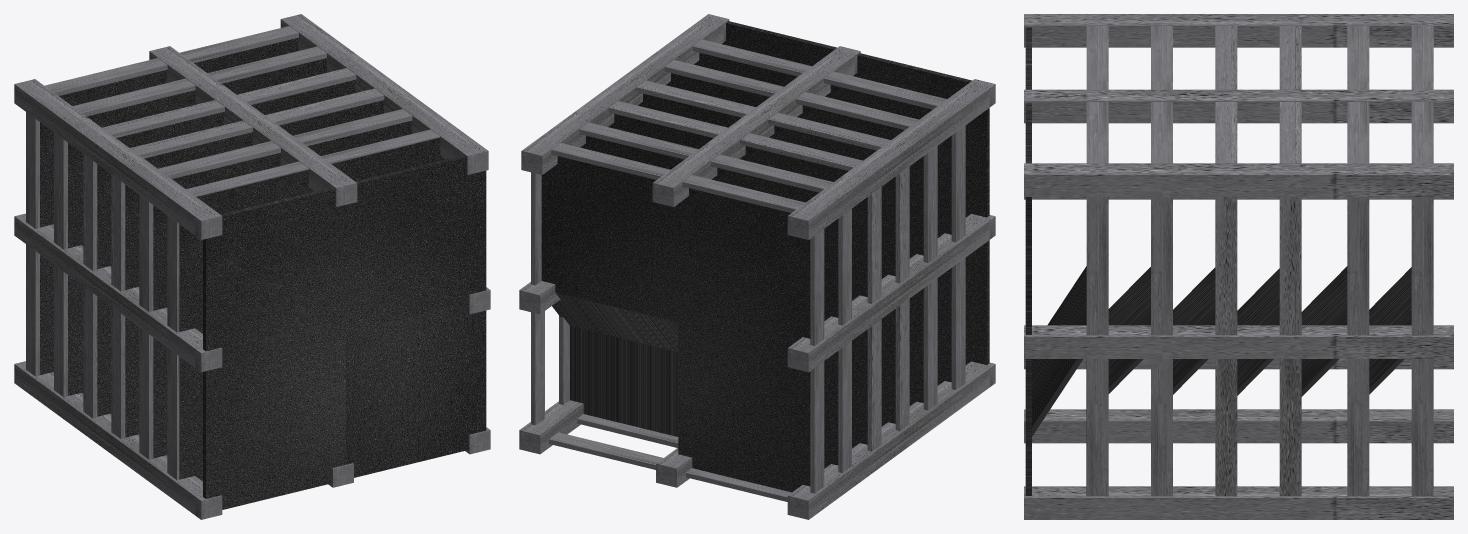
Rendered from parking.fbx.
3 views of the same model, side by side, from view 1: azimuth 30°, elevation 25°; view 2: azimuth 150°, elevation 25°; view 3: azimuth 270°, elevation 25° (orthographic). The views are drawn at different scales.
Parts seen in each view (by area): view 1: parking; view 2: parking; view 3: parking.
Part boxes in pixels (bbox=[...]): parking: bbox=[14, 14, 490, 519]; parking: bbox=[519, 14, 995, 519]; parking: bbox=[1024, 14, 1453, 519].
Size of the model in its own units: 103 by 101 by 115.
